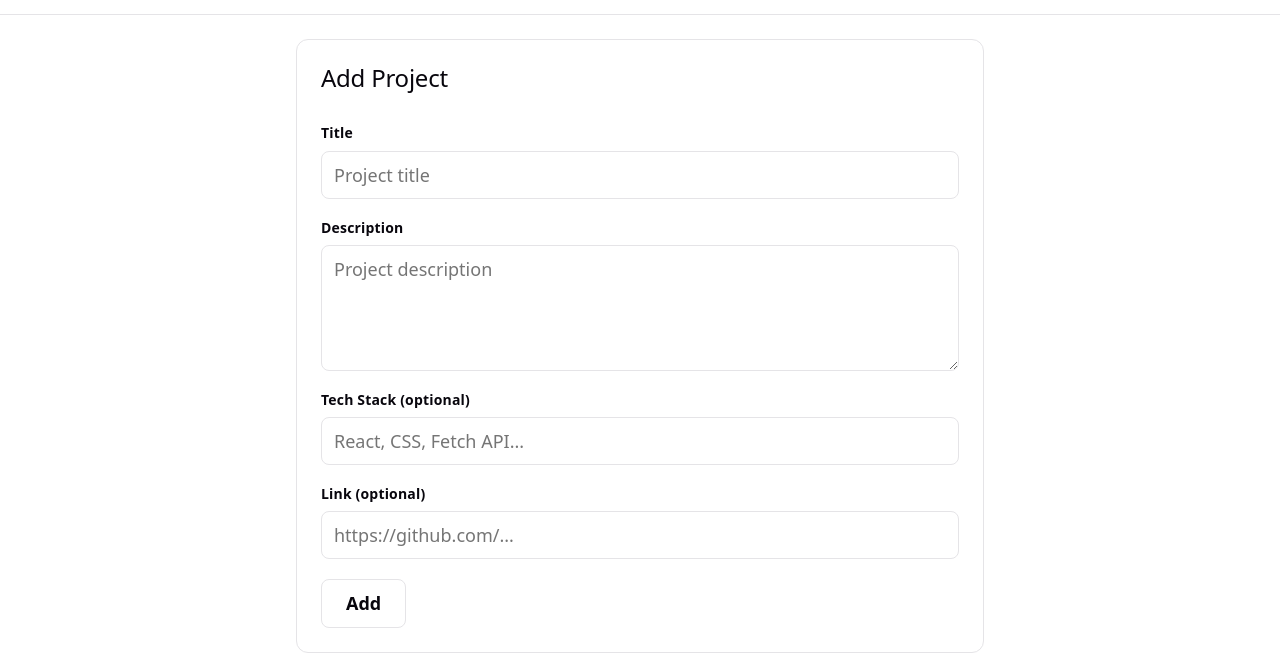
App › adds a new project through the form and displays it in the list
Step 1. Type "New Project" into the field labelled "Title" → [640, 175], box 321,150 -> 959,199
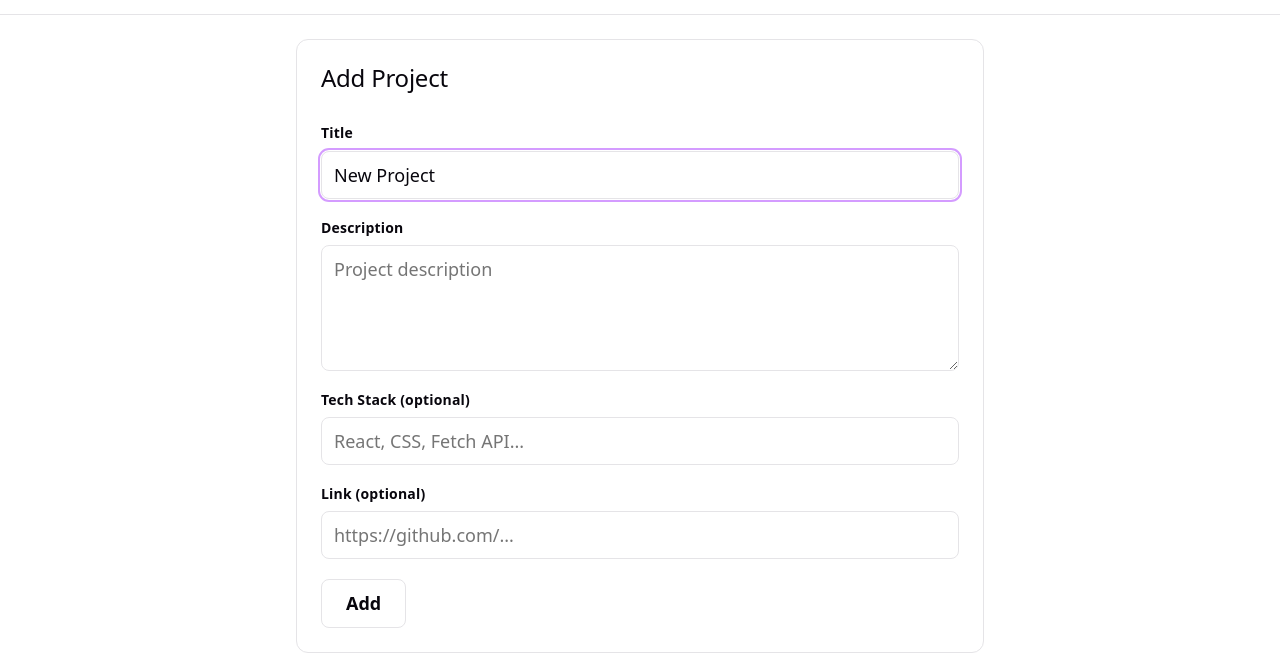
Step 2. Type "New description" into the text box labelled "Description" → [640, 308], box 321,245 -> 959,371
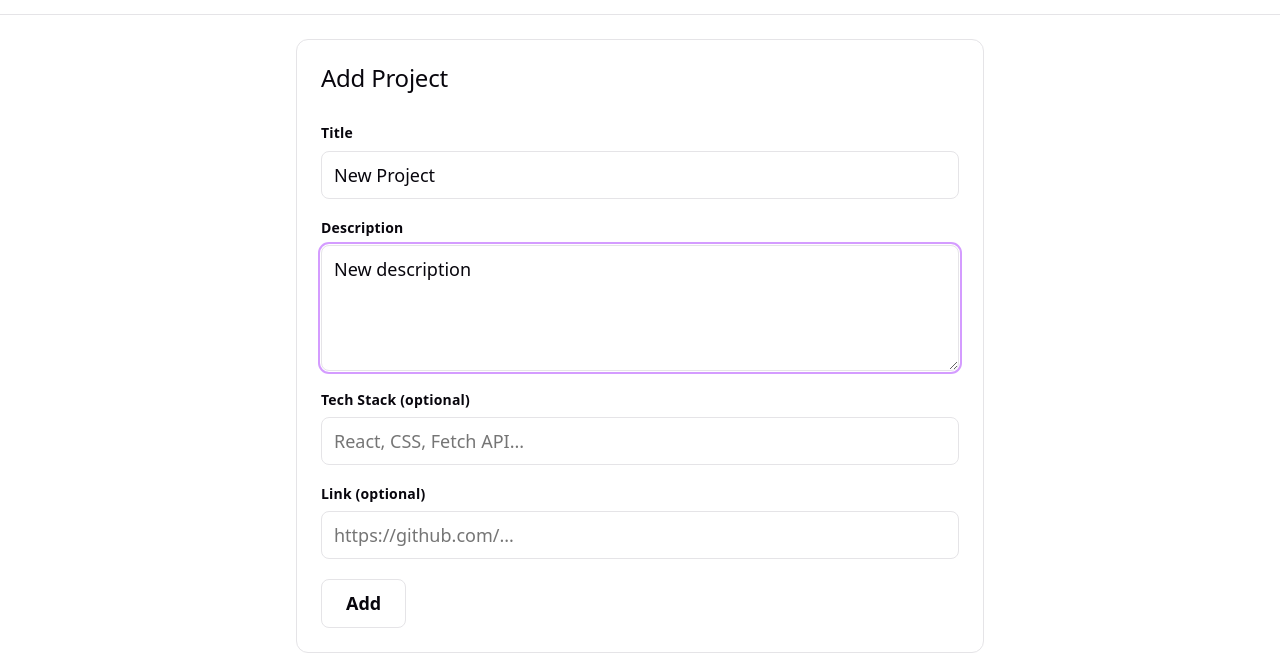
Step 3. Click the button "Add" → [364, 603], box 321,579 -> 406,628
(page scrolled)
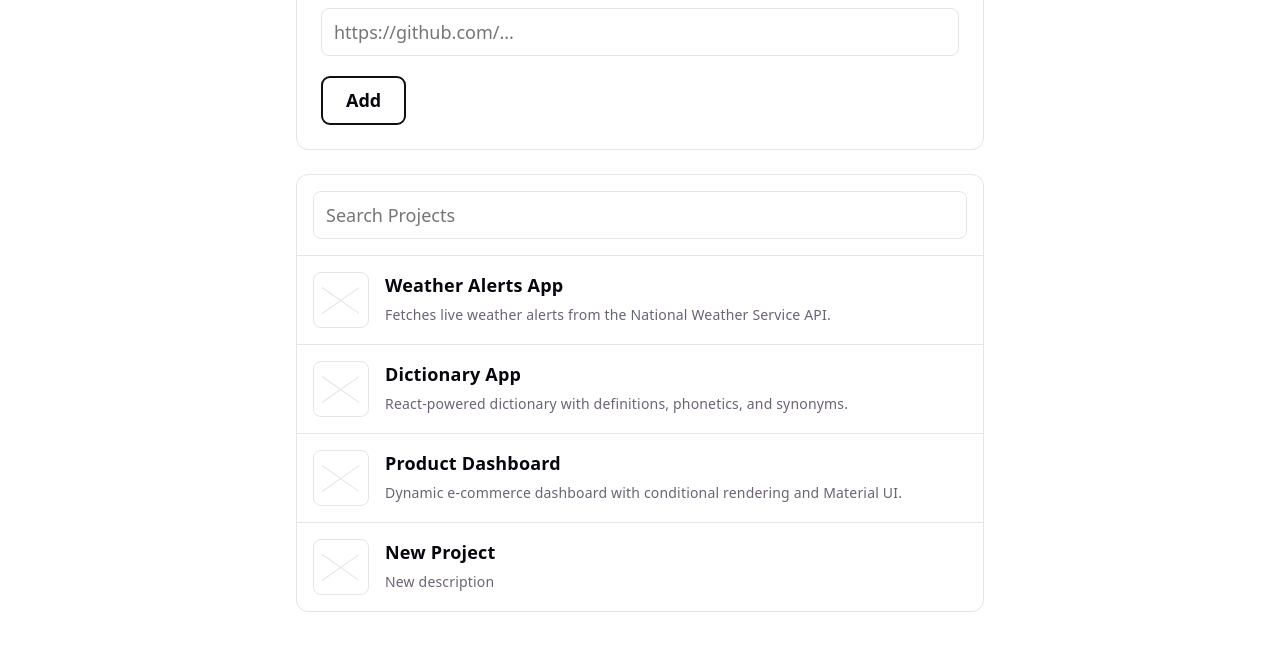
Now the heading "New Project" is shown, box 385,539 -> 495,565
